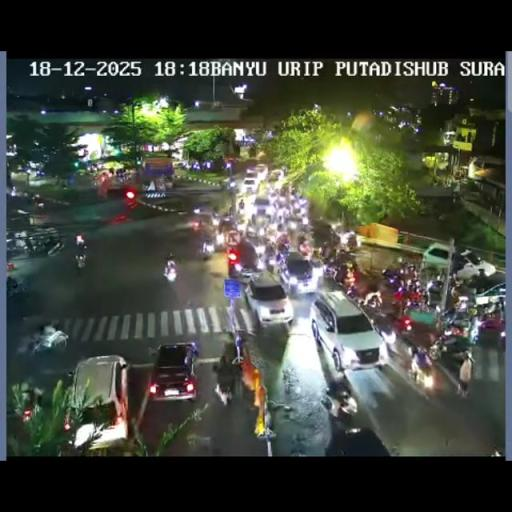Car: (66, 355, 132, 452), (312, 284, 385, 370), (148, 342, 200, 402), (244, 274, 292, 326), (278, 251, 322, 296), (225, 236, 260, 277), (449, 249, 494, 280), (422, 242, 454, 270), (472, 281, 505, 307), (250, 197, 272, 224), (152, 196, 186, 213), (191, 203, 215, 224), (249, 163, 268, 179), (242, 177, 258, 193), (267, 169, 284, 182)
Motorcycle: (430, 340, 472, 394), (368, 310, 402, 352), (27, 322, 68, 354), (388, 276, 425, 311), (409, 347, 436, 390), (213, 356, 237, 403), (20, 383, 43, 422), (441, 302, 470, 330), (323, 390, 344, 420), (424, 278, 445, 308), (324, 256, 347, 282), (74, 233, 88, 271), (6, 275, 26, 298), (398, 262, 420, 282), (58, 438, 82, 456), (361, 287, 382, 307), (340, 394, 358, 416), (46, 238, 66, 256), (468, 314, 480, 344), (344, 281, 362, 300), (162, 261, 178, 282), (262, 404, 273, 434), (254, 240, 268, 262), (448, 286, 462, 308), (200, 238, 215, 258), (266, 253, 280, 274), (276, 244, 290, 265), (266, 187, 280, 207), (336, 242, 351, 260), (320, 240, 334, 259), (24, 236, 38, 255), (290, 189, 302, 211), (285, 214, 299, 232), (296, 207, 309, 226), (298, 241, 312, 257), (116, 170, 133, 183), (214, 229, 226, 246), (146, 345, 160, 358), (265, 240, 277, 254), (190, 218, 201, 232), (476, 268, 486, 282), (490, 446, 502, 456), (228, 204, 235, 217), (36, 200, 45, 210), (238, 199, 244, 211)
